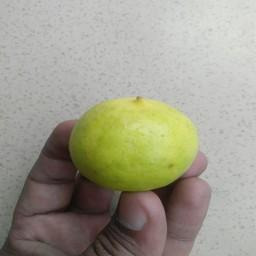Good_lime: (67, 90, 199, 190)
